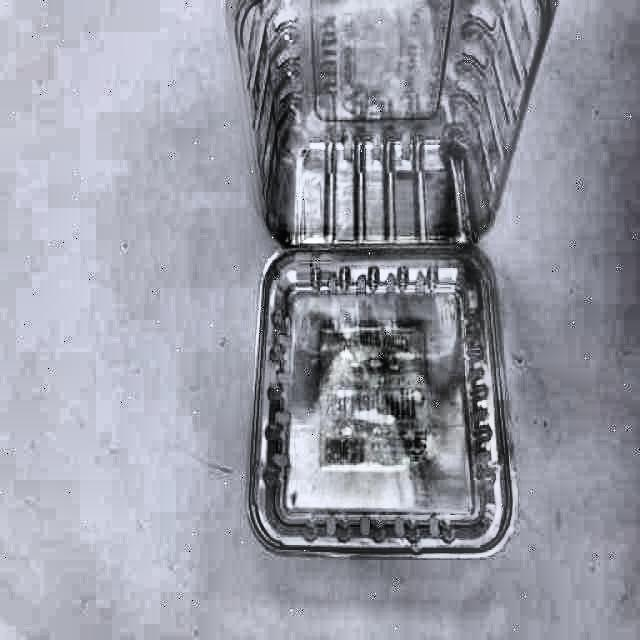plastic: (225, 0, 558, 566)
